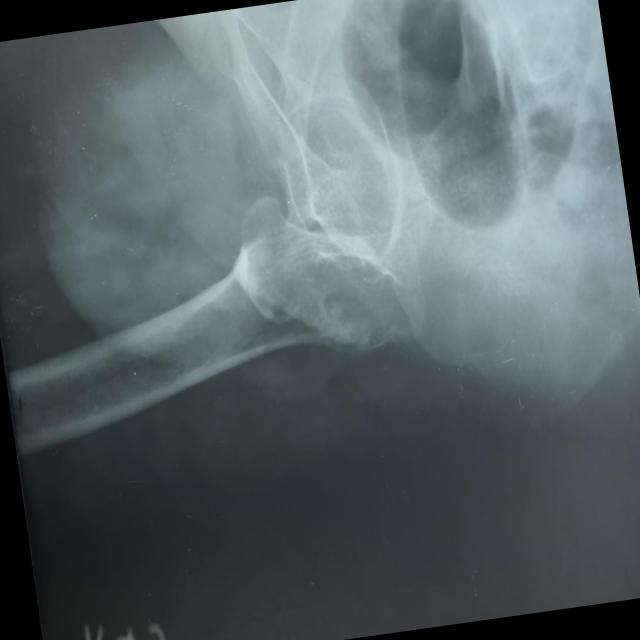left-neck: (173, 195, 425, 387), (280, 105, 388, 266)
